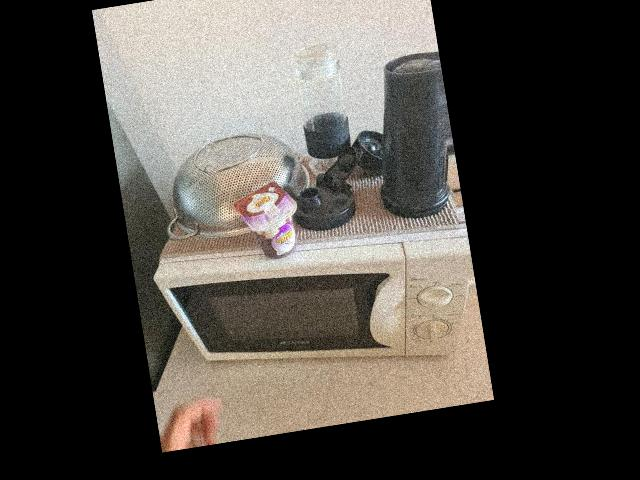milky: (237, 177, 303, 261)
